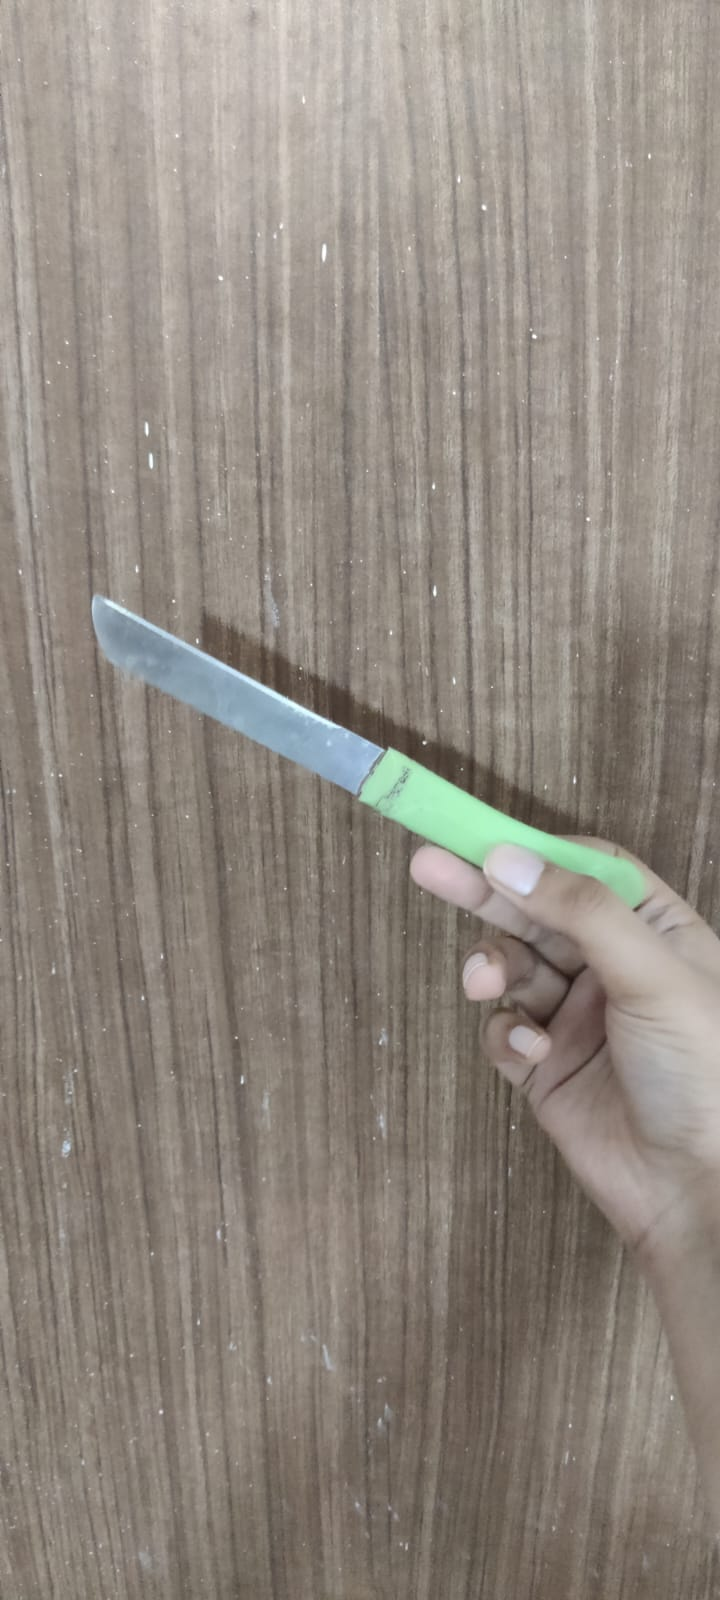knife: (96, 599, 626, 898)
